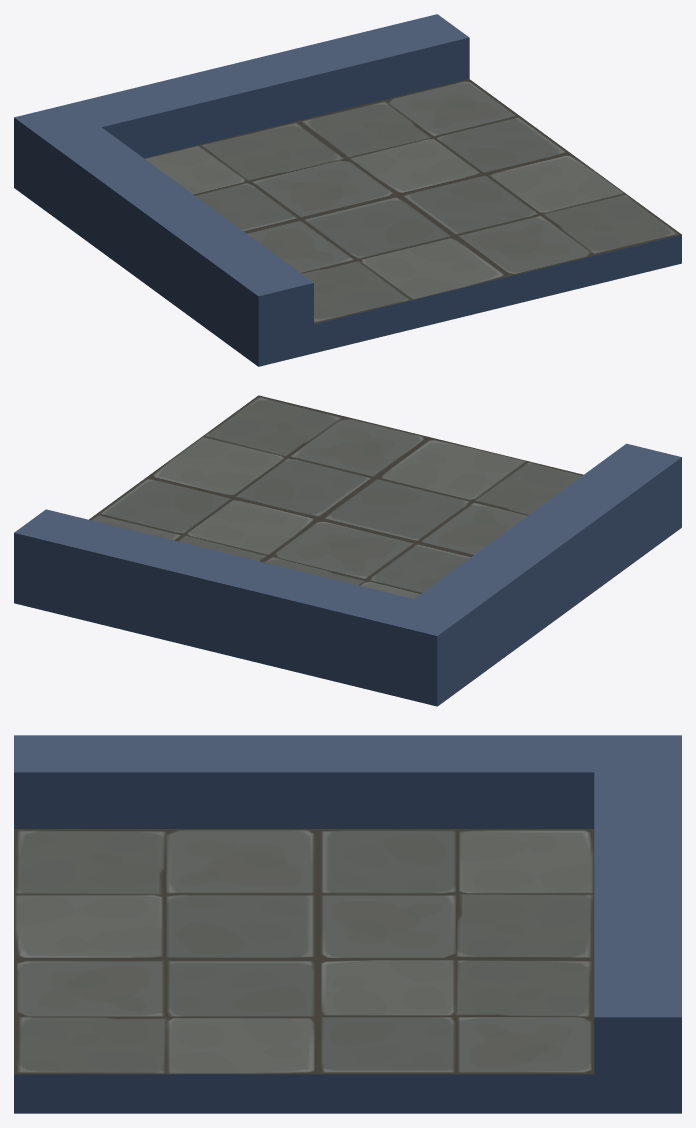
The model's file is RoofTop_A3.fbx.
3 views of the same model, one above another, from view 1: azimuth 30°, elevation 25°; view 2: azimuth 150°, elevation 25°; view 3: azimuth 270°, elevation 25° (orthographic). The views are drawn at different scales.
Visible parts, largest first — view 1: RoofTop_A3; view 2: RoofTop_A3; view 3: RoofTop_A3.
Boxes of the visible parts, x1,y1,x2,y2 form: RoofTop_A3: (14,14,681,366); RoofTop_A3: (14,395,681,706); RoofTop_A3: (14,735,681,1113).
Bounding box in the file's own units: 610 × 97.06 × 610.
